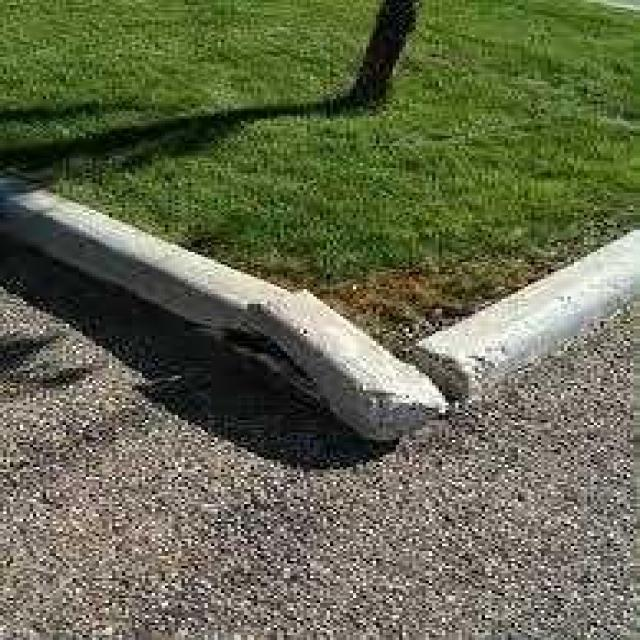curb: (279, 314, 462, 446), (8, 188, 195, 314), (475, 232, 634, 372), (175, 268, 292, 350)
